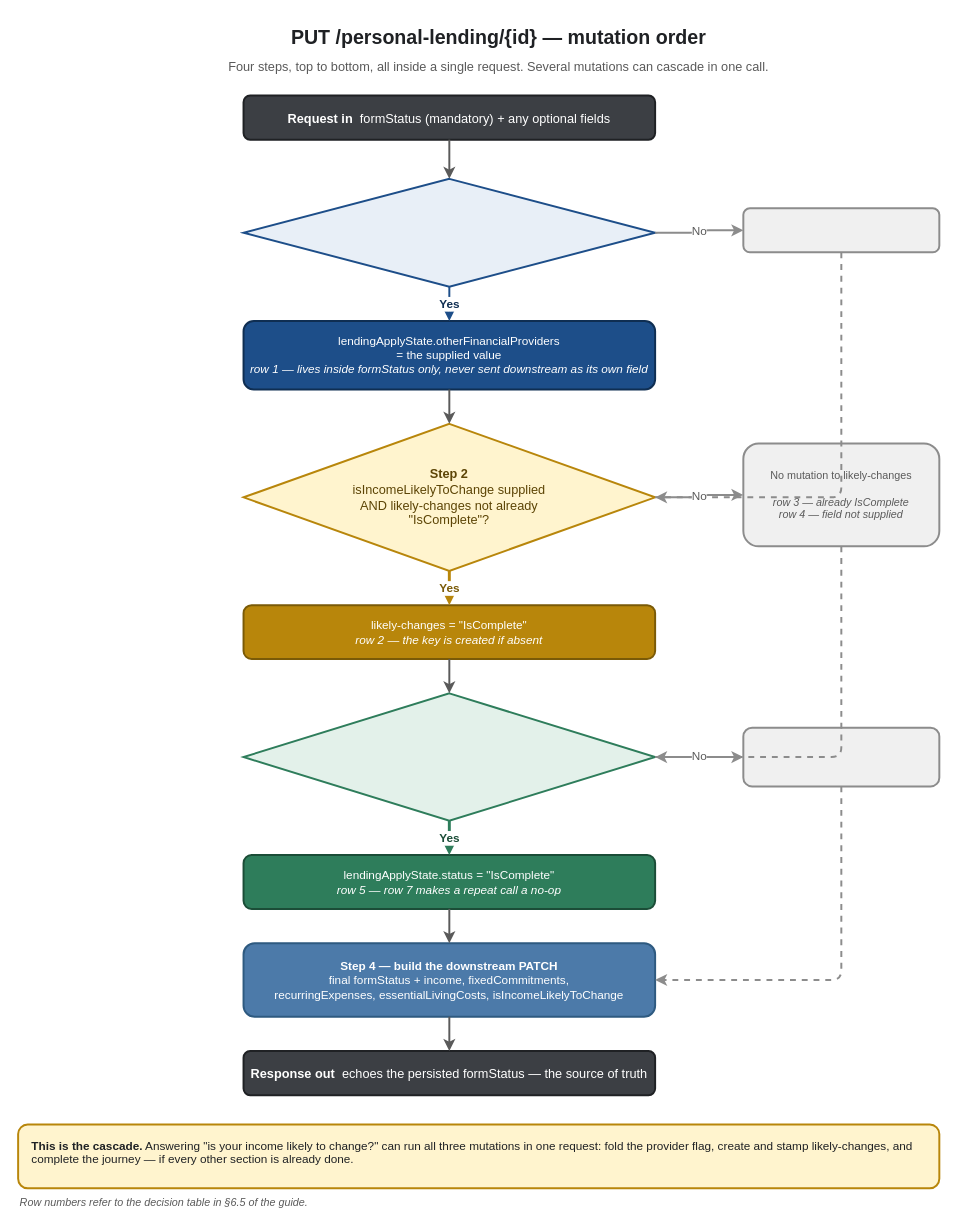
Some shapes in this 956 by 1229 pixel diagram are drawn without their labels. The box of each missing label's shape, as (x1, y1, x2, y2) in pixels:
No status change row 6 — request still succeeds: (742, 726, 940, 787)
skip: (742, 207, 940, 253)
Step 1 otherFinancialProviders supplied?: (242, 177, 656, 287)
Step 3 All five section markers now "IsComplete"? evaluated after steps 1 and 2: (242, 692, 656, 821)
